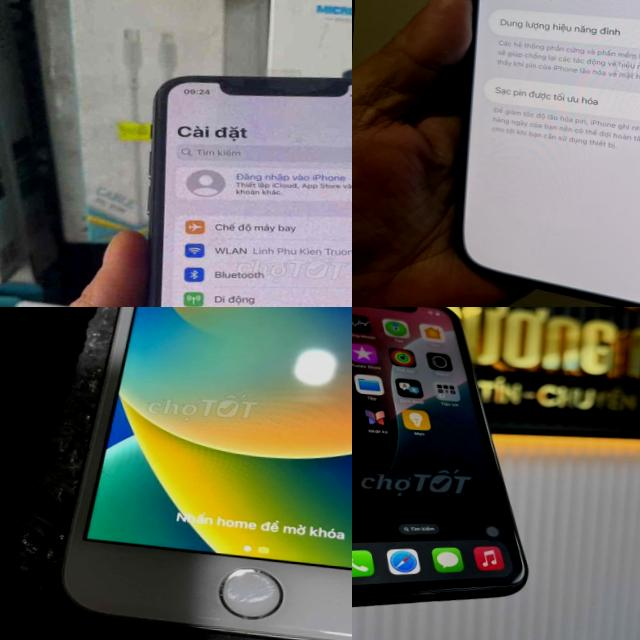gen_11: (352, 307, 553, 624)
gen_14: (432, 0, 640, 307)
gen_7_8: (50, 307, 352, 640)
gen_x_xs: (120, 66, 352, 307)
scratch: (210, 563, 284, 610)
